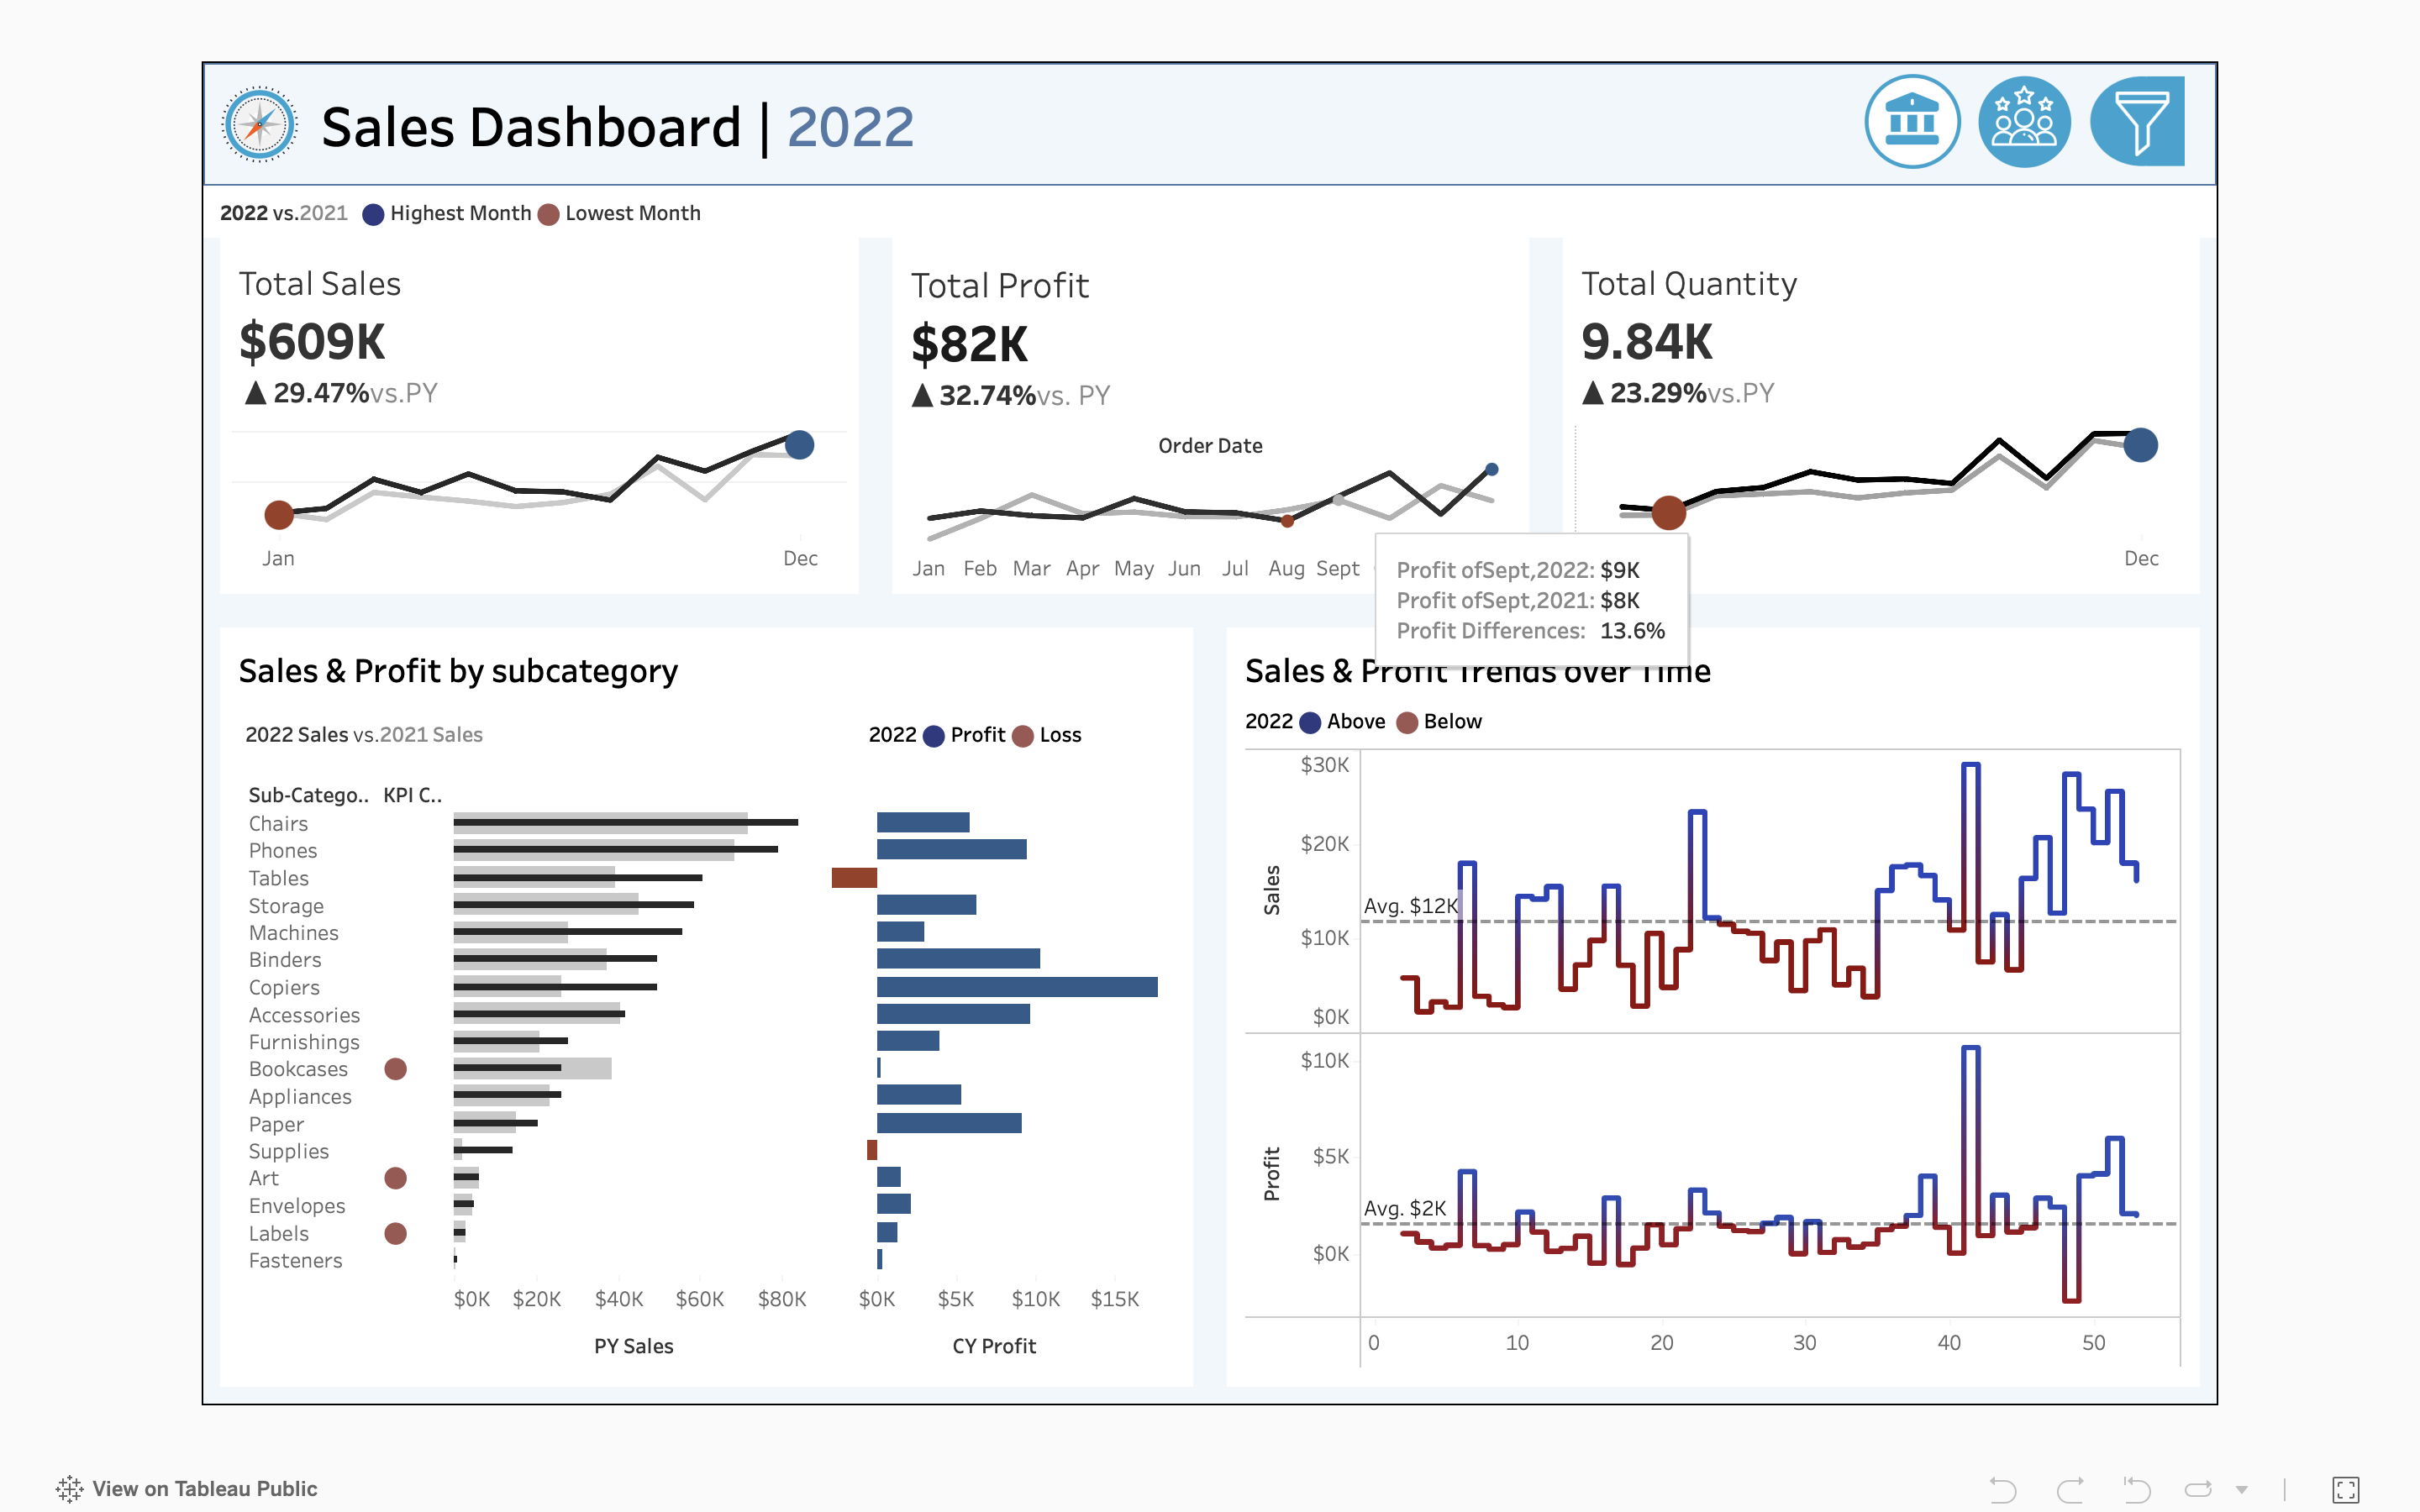

Layout of this report page (visuals, bound fields, positions):
{"tool":"tableau","page":{"name":"Sales Dashboard","canvas":[1200,800],"ordinal":1},"visuals":[{"type":"image","param":"Image/Icon - Logo.png","box":[0,0,73,59]},{"type":"text","box":[73,0,820,59]},{"type":"dashboard-object","box":[940,6,91,70]},{"type":"dashboard-object","box":[1031,6,91,70]},{"type":"blank","box":[952,10,237,86]},{"type":"worksheet","title":"Legend KPI","mark":"Automatic","box":[0,59,1200,29]},{"type":"worksheet","title":"KPI Sales","mark":"Automatic","rows":["Calculation_721701895347843083"],"cols":["Order Date"],"box":[0,88,400,284]},{"type":"worksheet","title":"KPI Profit","mark":"Automatic","rows":["Min/Max Sales (copy)_237846410425847814"],"cols":["Order Date"],"box":[400,88,400,284]},{"type":"worksheet","title":"KPI Quantity","mark":"Automatic","rows":["Min/Max Sales (copy) (copy)_237846410425856007"],"cols":["Order Date"],"box":[800,88,400,284]},{"type":"text","box":[952,96,237,37]},{"type":"parameter","param":"[Parameters].[Parameter 1]","box":[952,133,237,55]},{"type":"text","box":[952,188,237,32]},{"type":"filter","title":"KPI Sales","param":"[federated.1kpxa041aiai2y1cl4pui1t4eju9].[none:Category:nk]","box":[952,220,237,57]},{"type":"filter","title":"KPI Sales","param":"[federated.1kpxa041aiai2y1cl4pui1t4eju9].[none:Sub-Category:nk]","box":[952,277,237,57]},{"type":"blank","box":[952,334,237,60]},{"type":"text","box":[17,389,566,34]},{"type":"text","box":[617,389,566,34]},{"type":"text","box":[952,394,237,32]},{"type":"worksheet","title":"Legend Subcategory","mark":"Automatic","box":[17,423,374,32]},{"type":"text","box":[391,423,192,32]},{"type":"text","box":[617,423,566,25]},{"type":"filter","title":"KPI Sales","param":"[federated.1kpxa041aiai2y1cl4pui1t4eju9].[none:Region:nk]","box":[952,426,237,57]},{"type":"worksheet","title":"Weekly Trends","mark":"Automatic","rows":["Calculation_721701895334993921","CY Sales (copy)_237846410424180736"],"cols":["Order Date"],"box":[617,448,566,335]},{"type":"worksheet","title":"Subcategory Comparison","mark":"Bar","rows":["Sub-Category","Calculation_2435040078806671369"],"cols":["CY Sales (copy)_721701895335804930","Calculation_721701895334993921","CY Sales (copy)_237846410424180736"],"box":[17,455,566,327.9]},{"type":"filter","title":"KPI Sales","param":"[federated.1kpxa041aiai2y1cl4pui1t4eju9].[none:State:nk]","box":[952,483,237,57]},{"type":"filter","title":"KPI Sales","param":"[federated.1kpxa041aiai2y1cl4pui1t4eju9].[none:City:nk]","box":[952,540,237,57]}]}

Visuals, with their boxes on the page's 1200x800 design canvas (x1, y1, x2, y2). These are canvas units, not pixel positions in the 2420x1512 screenshot, which may show the page scaled, cropped or inside an application window:
image: (0, 0, 73, 59)
text: (73, 0, 893, 59)
dashboard-object: (940, 6, 1031, 76)
dashboard-object: (1031, 6, 1122, 76)
blank: (952, 10, 1189, 96)
"Legend KPI" worksheet: (0, 59, 1200, 88)
"KPI Sales" worksheet: (0, 88, 400, 372)
"KPI Profit" worksheet: (400, 88, 800, 372)
"KPI Quantity" worksheet: (800, 88, 1200, 372)
text: (952, 96, 1189, 133)
parameter: (952, 133, 1189, 188)
text: (952, 188, 1189, 220)
"KPI Sales" filter: (952, 220, 1189, 277)
"KPI Sales" filter: (952, 277, 1189, 334)
blank: (952, 334, 1189, 394)
text: (17, 389, 583, 423)
text: (617, 389, 1183, 423)
text: (952, 394, 1189, 426)
"Legend Subcategory" worksheet: (17, 423, 391, 455)
text: (391, 423, 583, 455)
text: (617, 423, 1183, 448)
"KPI Sales" filter: (952, 426, 1189, 483)
"Weekly Trends" worksheet: (617, 448, 1183, 783)
"Subcategory Comparison" worksheet (Bar marks): (17, 455, 583, 783)
"KPI Sales" filter: (952, 483, 1189, 540)
"KPI Sales" filter: (952, 540, 1189, 597)
